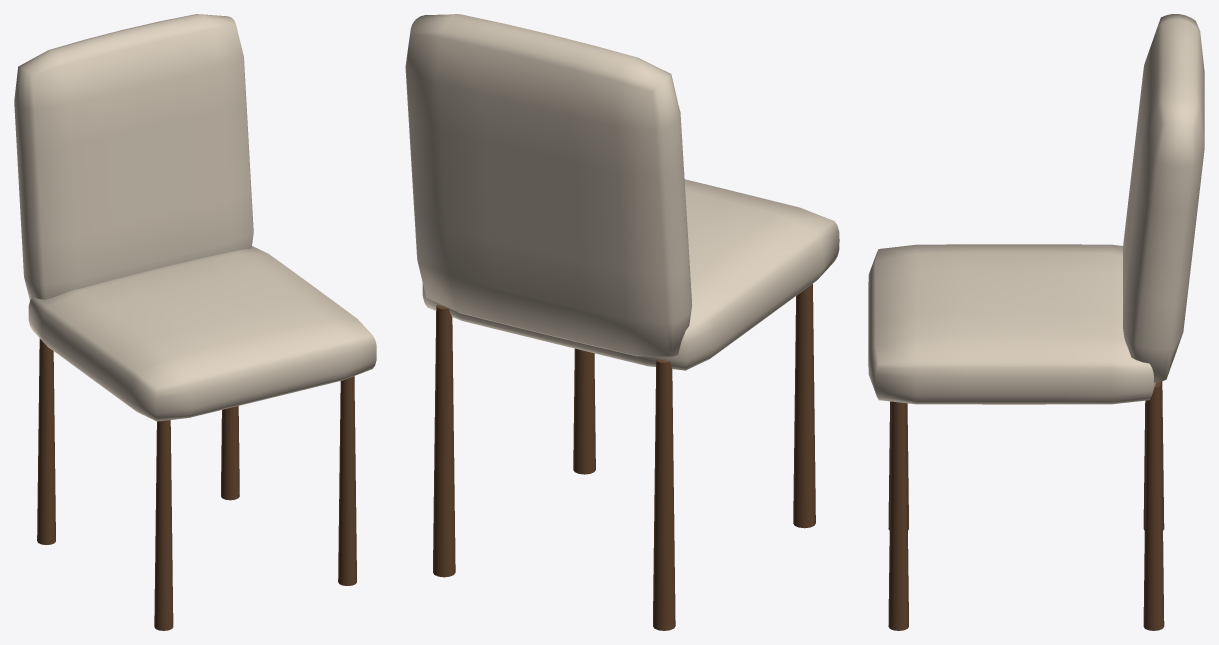
File: chair_uphol.glb
3 views of the same model, side by side, from view 1: azimuth 30°, elevation 25°; view 2: azimuth 150°, elevation 25°; view 3: azimuth 270°, elevation 25° (orthographic). The views are drawn at different scales.
Parts seen in each view (by area): view 1: soft.001, soft, cyl, cyl.002, cyl.001, cyl.003; view 2: soft.001, soft, cyl.001, cyl.003, cyl, cyl.002; view 3: soft, soft.001, cyl.003, cyl.002, cyl.001, cyl.
Boxes of the visible parts, box(x1,y1,x2,y2) form: soft.001: box(14, 14, 253, 300); soft: box(28, 246, 376, 421); cyl: box(154, 420, 173, 630); cyl.002: box(338, 376, 356, 585); cyl.001: box(37, 338, 55, 544); cyl.003: box(221, 406, 239, 500); soft.001: box(405, 14, 691, 356); soft: box(422, 179, 839, 370); cyl.001: box(653, 359, 675, 630); cyl.003: box(433, 304, 455, 577); cyl: box(793, 284, 815, 528); cyl.002: box(573, 348, 595, 474); soft: box(868, 244, 1155, 404); soft.001: box(1123, 14, 1204, 382); cyl.003: box(1143, 382, 1164, 630); cyl.002: box(888, 401, 908, 630); cyl.001: box(1143, 381, 1164, 530); cyl: box(888, 401, 908, 530).
Bounding box in the file's own units: 48 × 94.72 × 55.34.
